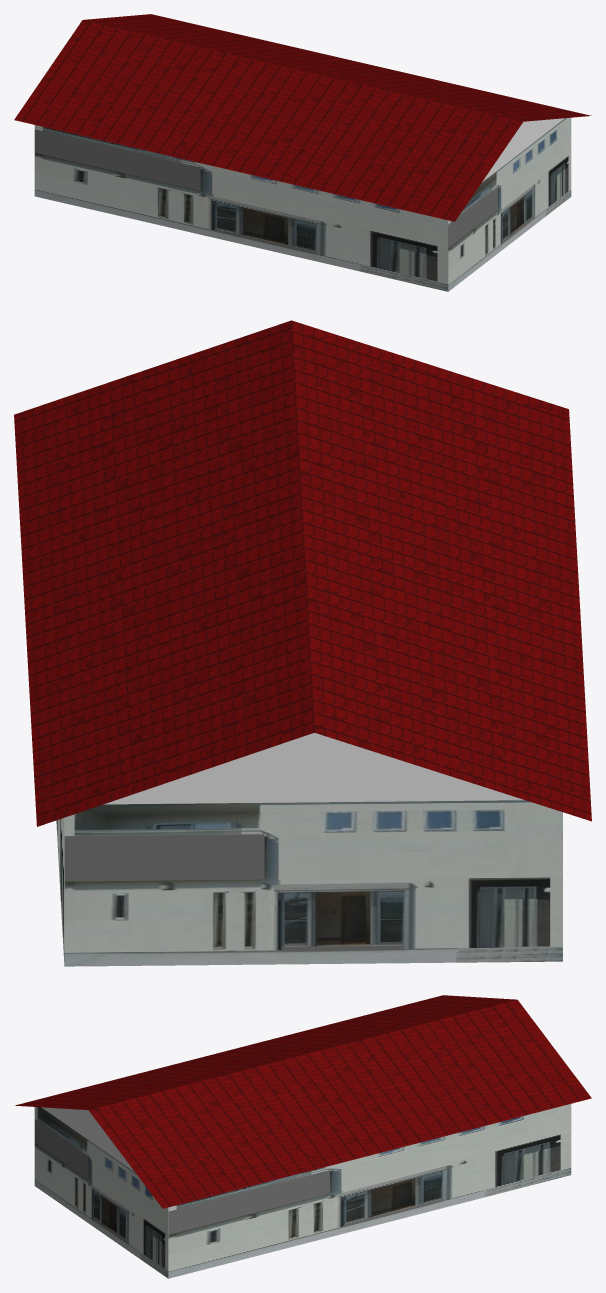
The picture shows the model from 3 angles, top to bottom: view 1: azimuth 30°, elevation 25°; view 2: azimuth 150°, elevation 25°; view 3: azimuth 270°, elevation 25°; orthographic projection. The views are drawn at different scales.
Parts seen in each view (by area): view 1: CityEngineMaterial_17_m, CityEngineMaterial_11_m, CityEngineMaterial_3_m; view 2: CityEngineMaterial_17_m, CityEngineMaterial_11_m, CityEngineMaterial_3_m; view 3: CityEngineMaterial_17_m, CityEngineMaterial_11_m, CityEngineMaterial_3_m.
Part boxes in pixels (x1=…): CityEngineMaterial_17_m: x1=14, y1=14, x2=591, y2=221; CityEngineMaterial_11_m: x1=34, y1=117, x2=571, y2=291; CityEngineMaterial_3_m: x1=482, y1=118, x2=564, y2=182; CityEngineMaterial_17_m: x1=14, y1=320, x2=591, y2=826; CityEngineMaterial_11_m: x1=56, y1=800, x2=562, y2=966; CityEngineMaterial_3_m: x1=104, y1=733, x2=524, y2=804; CityEngineMaterial_17_m: x1=15, y1=995, x2=591, y2=1208; CityEngineMaterial_11_m: x1=34, y1=1104, x2=571, y2=1278; CityEngineMaterial_3_m: x1=42, y1=1107, x2=134, y2=1171.
Size of the model in its own units: 32.69 by 8.97 by 37.37.
